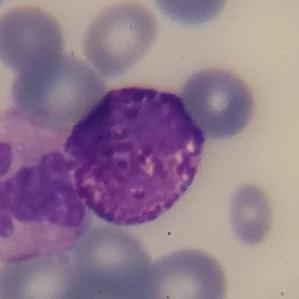Basophil: (41, 75, 215, 238)
Neutrophil: (0, 106, 91, 265)
RBC: (10, 52, 105, 130), (177, 62, 260, 143), (69, 226, 158, 298), (79, 0, 161, 78), (0, 1, 68, 77), (143, 243, 233, 299), (3, 248, 80, 299), (225, 180, 278, 248), (148, 0, 232, 29)
